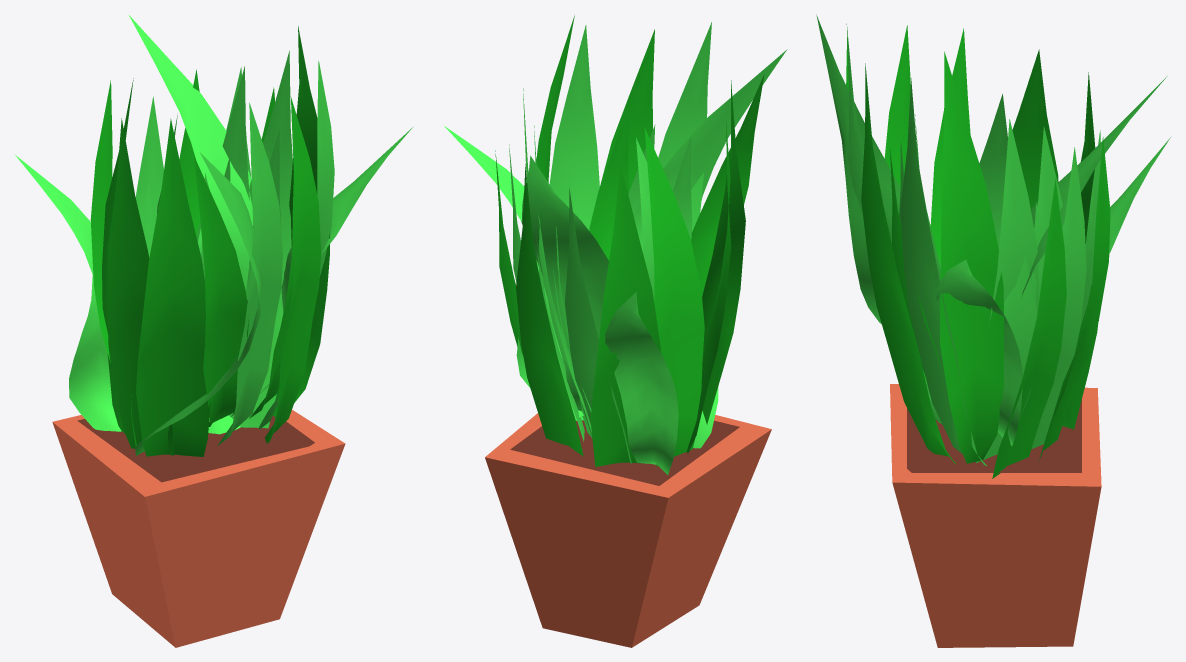
File: plant9.gltf
3 views of the same model, side by side, from view 1: azimuth 30°, elevation 25°; view 2: azimuth 150°, elevation 25°; view 3: azimuth 270°, elevation 25° (orthographic). The views are drawn at different scales.
Visible parts, largest first — view 1: Cube.001, BezierCurve.004, BezierCurve.007, BezierCurve.003, BezierCurve.005, BezierCurve.001, BezierCurve.012, BezierCurve.024, Plane, BezierCurve.021, BezierCurve.014, BezierCurve.009 (+9 smaller); view 2: Cube.001, BezierCurve.006, BezierCurve.009, BezierCurve.024, BezierCurve.008, BezierCurve.012, BezierCurve.002, BezierCurve.004, BezierCurve.026, BezierCurve.010, Plane, BezierCurve.005 (+12 smaller); view 3: Cube.001, BezierCurve.014, BezierCurve.001, BezierCurve.002, BezierCurve.015, BezierCurve.026, Plane, BezierCurve.013, BezierCurve.021, BezierCurve.008, BezierCurve.025, BezierCurve.006 (+11 smaller).
Part boxes in pixels (<box>): Cube.001: <box>52,410,345,647</box>; BezierCurve.004: <box>136,118,210,456</box>; BezierCurve.007: <box>107,118,173,455</box>; BezierCurve.003: <box>217,102,282,445</box>; BezierCurve.005: <box>194,156,248,426</box>; BezierCurve.001: <box>265,96,321,443</box>; BezierCurve.012: <box>129,15,253,434</box>; BezierCurve.024: <box>15,155,121,431</box>; Plane: <box>77,416,314,482</box>; BezierCurve.021: <box>233,50,292,428</box>; BezierCurve.014: <box>273,26,329,416</box>; BezierCurve.009: <box>90,80,112,362</box>; Cube.001: <box>485,413,771,647</box>; BezierCurve.006: <box>644,128,704,466</box>; BezierCurve.009: <box>590,164,660,466</box>; BezierCurve.024: <box>605,292,678,474</box>; BezierCurve.008: <box>516,163,583,456</box>; BezierCurve.012: <box>521,155,608,416</box>; BezierCurve.002: <box>549,25,599,420</box>; BezierCurve.004: <box>702,80,745,424</box>; BezierCurve.026: <box>633,49,787,448</box>; BezierCurve.010: <box>565,188,631,463</box>; Plane: <box>510,420,739,485</box>; BezierCurve.005: <box>691,74,764,296</box>; Cube.001: <box>890,384,1101,647</box>; BezierCurve.014: <box>940,51,1003,463</box>; BezierCurve.001: <box>861,63,956,463</box>; BezierCurve.002: <box>900,78,986,465</box>; BezierCurve.015: <box>992,178,1066,478</box>; BezierCurve.026: <box>816,14,900,324</box>; Plane: <box>907,399,1081,472</box>; BezierCurve.013: <box>1020,147,1086,449</box>; BezierCurve.021: <box>989,119,1039,322</box>; BezierCurve.008: <box>1039,137,1110,459</box>; BezierCurve.025: <box>935,260,1022,445</box>; BezierCurve.006: <box>1012,49,1058,209</box>.
Bounding box in the file's own units: 1.76 × 3.23 × 1.7.
